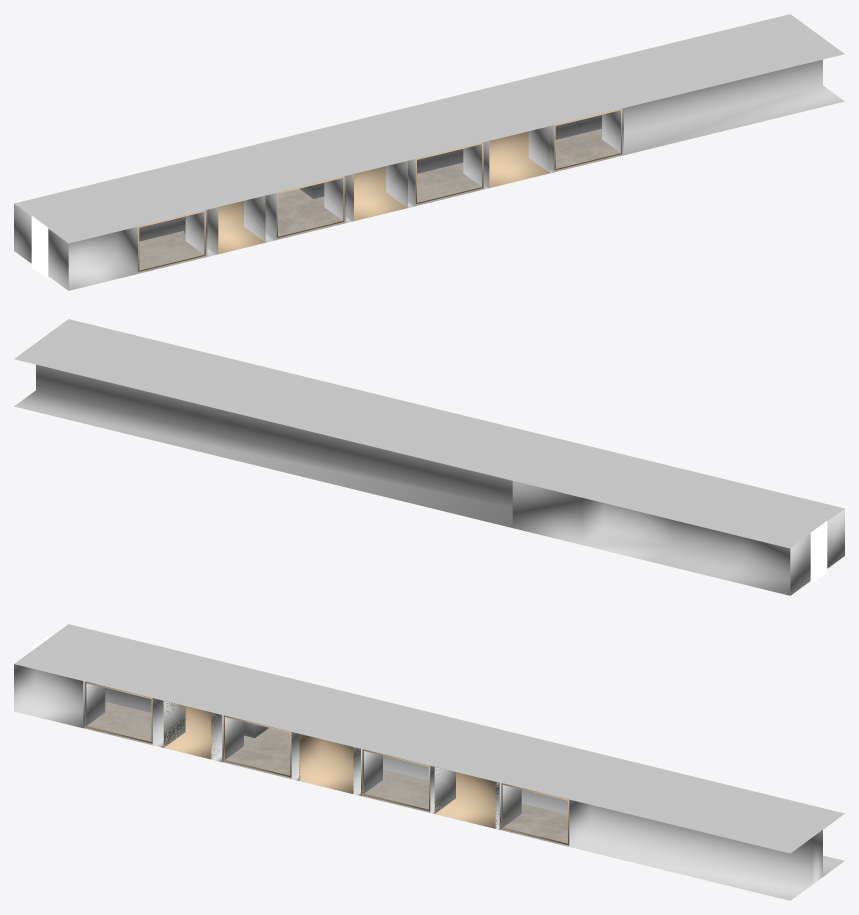
The model's file is hallway.glb.
3 renders of one model, top to bottom at view 1: azimuth 30°, elevation 25°; view 2: azimuth 150°, elevation 25°; view 3: azimuth 330°, elevation 25°, orthographic.
Parts seen in each view (by area): view 1: Roof, body, floor, Cube-1, Cube-2, Windows, Cube-3, light; view 2: Roof, body, light; view 3: Roof, body, floor, Cube-2, Cube-1, Windows, Cube-3.
Boxes of the visible parts, box(x1,y1,x2,y2) form: Roof: box(14, 14, 844, 243); body: box(14, 55, 844, 290); floor: box(138, 129, 623, 273); Cube-1: box(485, 126, 550, 187); Cube-2: box(346, 160, 407, 220); Windows: box(138, 108, 622, 272); Cube-3: box(207, 195, 265, 254); light: box(31, 216, 48, 279); Roof: box(14, 319, 844, 548); body: box(14, 360, 844, 595); light: box(810, 521, 827, 584); Roof: box(14, 624, 844, 853); body: box(14, 664, 844, 900); floor: box(83, 702, 569, 846); Cube-2: box(299, 733, 359, 793); Cube-1: box(434, 767, 499, 828); Windows: box(84, 681, 569, 845); Cube-3: box(163, 701, 218, 759).
Size of what is drawn, in the model's own units: 56.94 by 3.64 by 6.93.
Materials: 6 (1 with a texture image).
